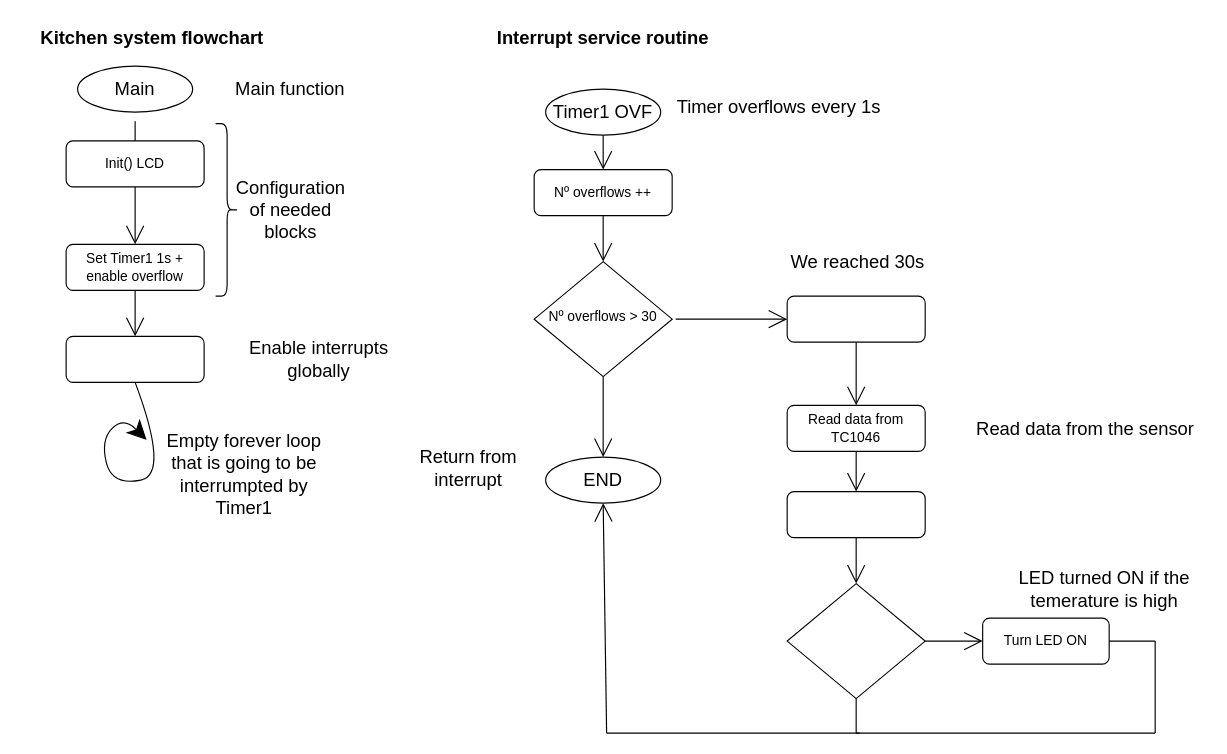
The diagram is 1227 pixels wide and 754 high, and some of its shapes have lost their labels. The shapes that lost their labels are listed below. From the top down, each one's centre as x and y in pixels, then its label:
At (x=855, y=318): "Nº overflows = 0".
At (x=134, y=358): "sei() function".
At (x=855, y=514): "Display data on LCD".
At (x=855, y=640): "Temperature high".
